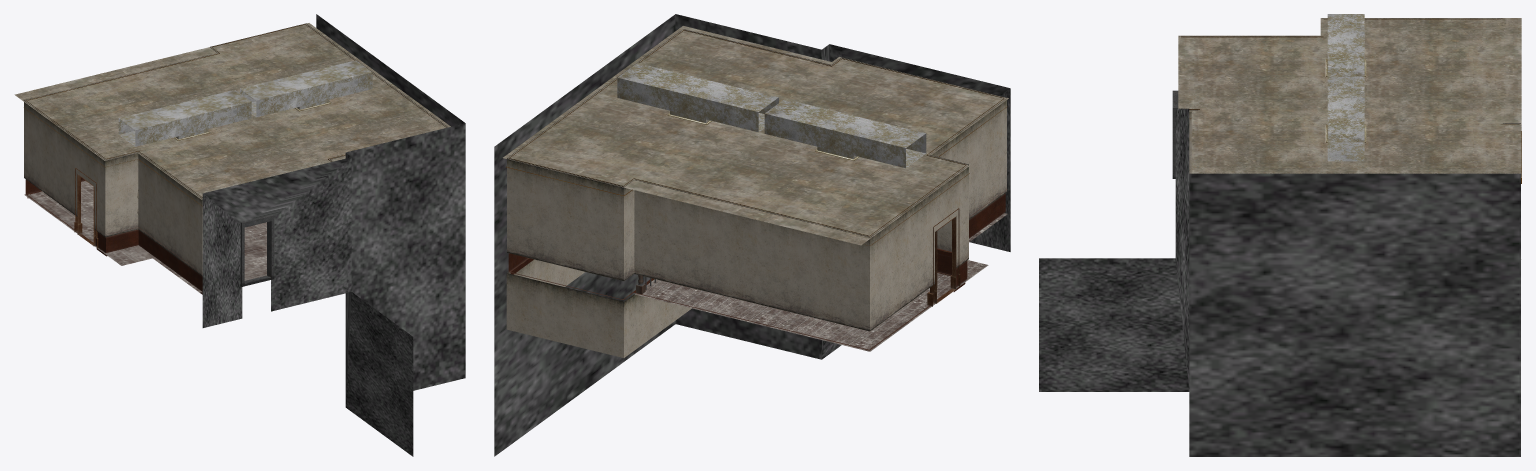
The picture shows the model from 3 angles, left to right: view 1: azimuth 30°, elevation 25°; view 2: azimuth 150°, elevation 25°; view 3: azimuth 270°, elevation 25°; orthographic projection. The views are drawn at different scales.
Visible parts, largest first — view 1: LOD_1_Group_0_Sub_12__FakeWall__Env_Default, LOD_1_Group_0_Sub_11__st2_police1fLeftCeiling02_Mat, LOD_1_Group_0_Sub_2__st2_police2fRightWall02, LOD_1_Group_0_Sub_8__st2_208_0_001_st2_208_0_WestOffice_1713, LOD_1_Group_0_Sub_1__st2_policeWest3f4fFloor02, LOD_1_Group_0_Sub_6__st2_police2fRightWall06, LOD_1_Group_0_Sub_7__st2_police1fRightDoor02, LOD_1_Group_0_Sub_5__st2_police2fRightFrame01, LOD_1_Group_0_Sub_4__st2_police1fLeftDoor02; view 2: LOD_1_Group_0_Sub_2__st2_police2fRightWall02, LOD_1_Group_0_Sub_11__st2_police1fLeftCeiling02_Mat, LOD_1_Group_0_Sub_12__FakeWall__Env_Default, LOD_1_Group_0_Sub_8__st2_208_0_001_st2_208_0_WestOffice_1713, LOD_1_Group_0_Sub_1__st2_policeWest3f4fFloor02, LOD_1_Group_0_Sub_6__st2_police2fRightWall06, LOD_1_Group_0_Sub_5__st2_police2fRightFrame01, LOD_1_Group_0_Sub_4__st2_police1fLeftDoor02; view 3: LOD_1_Group_0_Sub_12__FakeWall__Env_Default, LOD_1_Group_0_Sub_11__st2_police1fLeftCeiling02_Mat, LOD_1_Group_0_Sub_8__st2_208_0_001_st2_208_0_WestOffice_1713, LOD_1_Group_0_Sub_2__st2_police2fRightWall02, LOD_1_Group_0_Sub_5__st2_police2fRightFrame01.
Boxes of the visible parts, left/top/right/bottom form: LOD_1_Group_0_Sub_12__FakeWall__Env_Default: left=202, top=14, right=465, bottom=456; LOD_1_Group_0_Sub_11__st2_police1fLeftCeiling02_Mat: left=14, top=23, right=450, bottom=199; LOD_1_Group_0_Sub_2__st2_police2fRightWall02: left=24, top=23, right=447, bottom=276; LOD_1_Group_0_Sub_8__st2_208_0_001_st2_208_0_WestOffice_1713: left=118, top=60, right=372, bottom=146; LOD_1_Group_0_Sub_1__st2_policeWest3f4fFloor02: left=24, top=180, right=266, bottom=292; LOD_1_Group_0_Sub_6__st2_police2fRightWall06: left=25, top=177, right=202, bottom=294; LOD_1_Group_0_Sub_7__st2_police1fRightDoor02: left=240, top=214, right=274, bottom=286; LOD_1_Group_0_Sub_5__st2_police2fRightFrame01: left=24, top=24, right=446, bottom=206; LOD_1_Group_0_Sub_4__st2_police1fLeftDoor02: left=74, top=168, right=98, bottom=248; LOD_1_Group_0_Sub_2__st2_police2fRightWall02: left=506, top=29, right=1006, bottom=357; LOD_1_Group_0_Sub_11__st2_police1fLeftCeiling02_Mat: left=503, top=26, right=1008, bottom=245; LOD_1_Group_0_Sub_12__FakeWall__Env_Default: left=494, top=14, right=1010, bottom=456; LOD_1_Group_0_Sub_8__st2_208_0_001_st2_208_0_WestOffice_1713: left=617, top=63, right=926, bottom=168; LOD_1_Group_0_Sub_1__st2_policeWest3f4fFloor02: left=634, top=213, right=1007, bottom=351; LOD_1_Group_0_Sub_6__st2_police2fRightWall06: left=508, top=189, right=1007, bottom=350; LOD_1_Group_0_Sub_5__st2_police2fRightFrame01: left=506, top=30, right=1007, bottom=245; LOD_1_Group_0_Sub_4__st2_police1fLeftDoor02: left=927, top=208, right=960, bottom=306; LOD_1_Group_0_Sub_12__FakeWall__Env_Default: left=1039, top=108, right=1520, bottom=456; LOD_1_Group_0_Sub_11__st2_police1fLeftCeiling02_Mat: left=1178, top=18, right=1521, bottom=177; LOD_1_Group_0_Sub_8__st2_208_0_001_st2_208_0_WestOffice_1713: left=1325, top=14, right=1366, bottom=161; LOD_1_Group_0_Sub_2__st2_police2fRightWall02: left=1179, top=18, right=1520, bottom=173; LOD_1_Group_0_Sub_5__st2_police2fRightFrame01: left=1181, top=19, right=1521, bottom=183.
Bounding box in the file's own units: 11.1 × 9.4 × 13.83.
